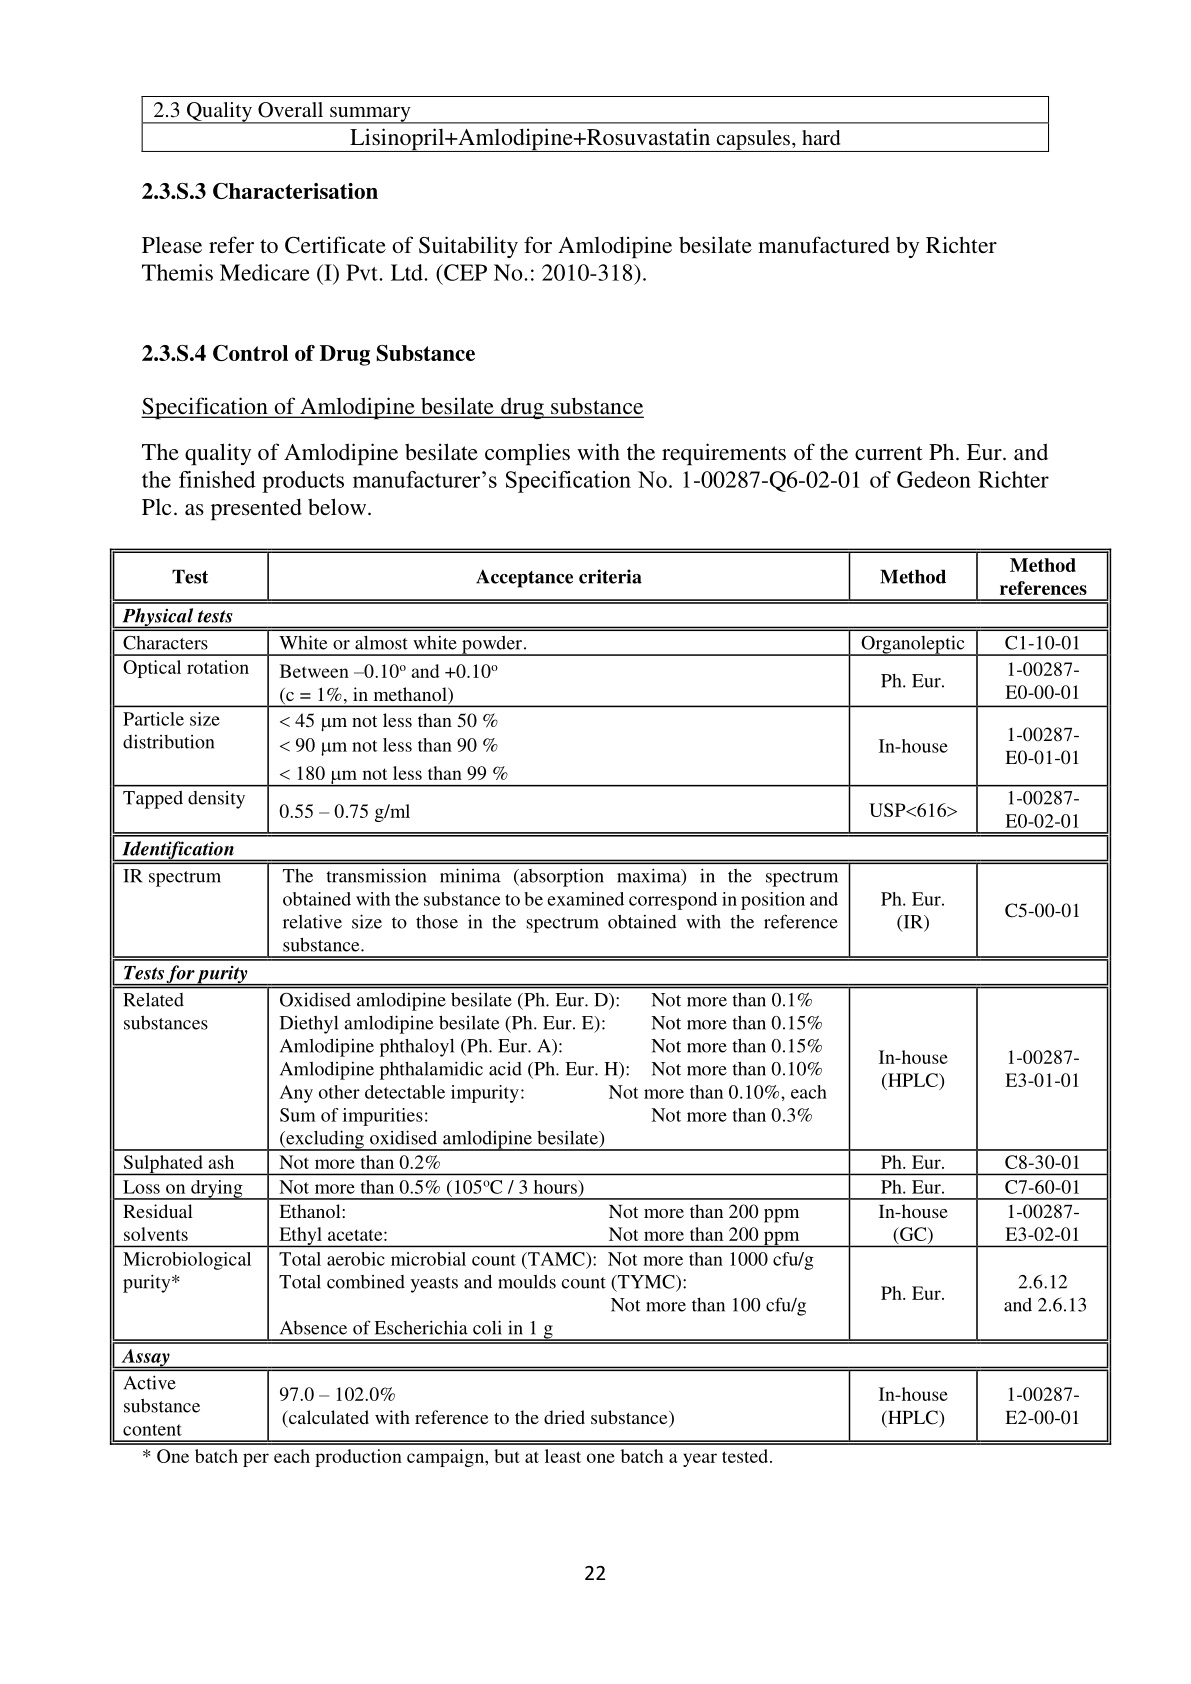full_lined: (140, 95, 1051, 153)
merged_cells: (110, 548, 1112, 1446)
